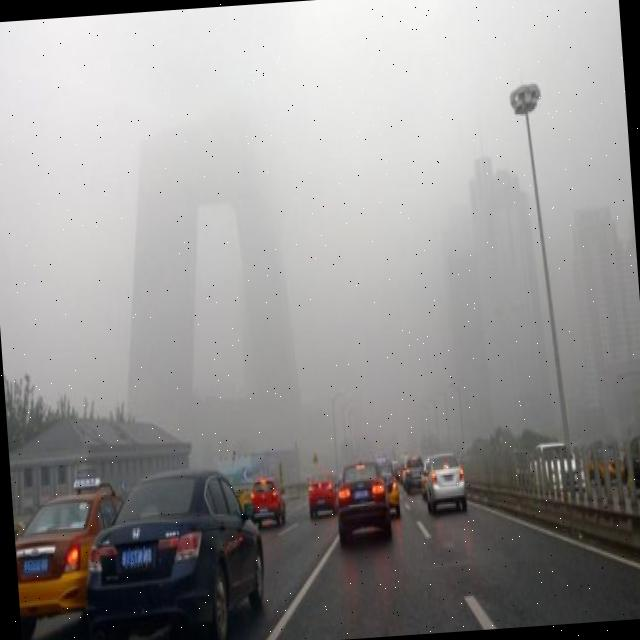car: (73, 462, 271, 640), (12, 484, 132, 636), (333, 458, 394, 544), (421, 448, 468, 512), (529, 444, 583, 488), (248, 474, 288, 525), (587, 439, 626, 480), (307, 475, 338, 517), (406, 446, 428, 484), (386, 462, 401, 514), (626, 435, 640, 485)
